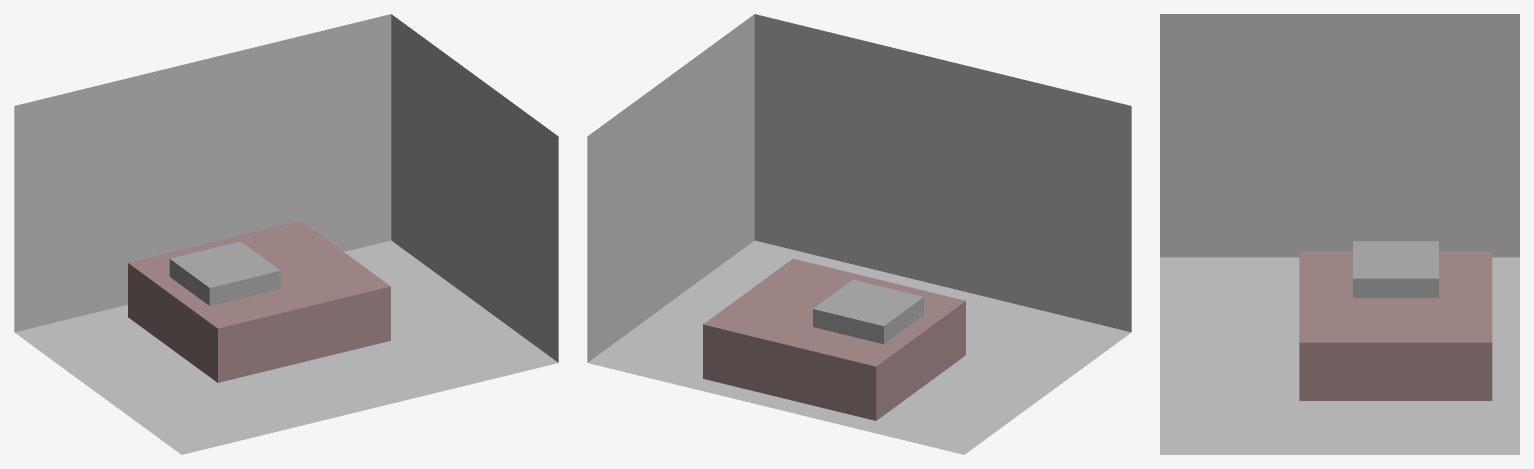
The model's file is current_layout.glb.
The picture shows the model from 3 angles, left to right: view 1: azimuth 30°, elevation 25°; view 2: azimuth 150°, elevation 25°; view 3: azimuth 270°, elevation 25°; orthographic projection. The views are drawn at different scales.
Visible parts, largest first — view 1: room, bed, beds, tables; view 2: room, bed, beds, tables; view 3: room, bed, tables, beds.
Boxes of the visible parts, <box> form: room: <box>14,14,558,454</box>; bed: <box>128,220,390,382</box>; beds: <box>169,243,278,305</box>; tables: <box>187,241,280,288</box>; room: <box>587,14,1131,454</box>; bed: <box>703,258,965,420</box>; beds: <box>815,280,923,344</box>; tables: <box>813,279,921,343</box>; room: <box>1160,14,1519,454</box>; bed: <box>1299,251,1492,400</box>; tables: <box>1353,242,1438,297</box>; beds: <box>1353,241,1438,296</box>.
Size of the model in its own units: 4.36 by 2.5 by 3.35.
